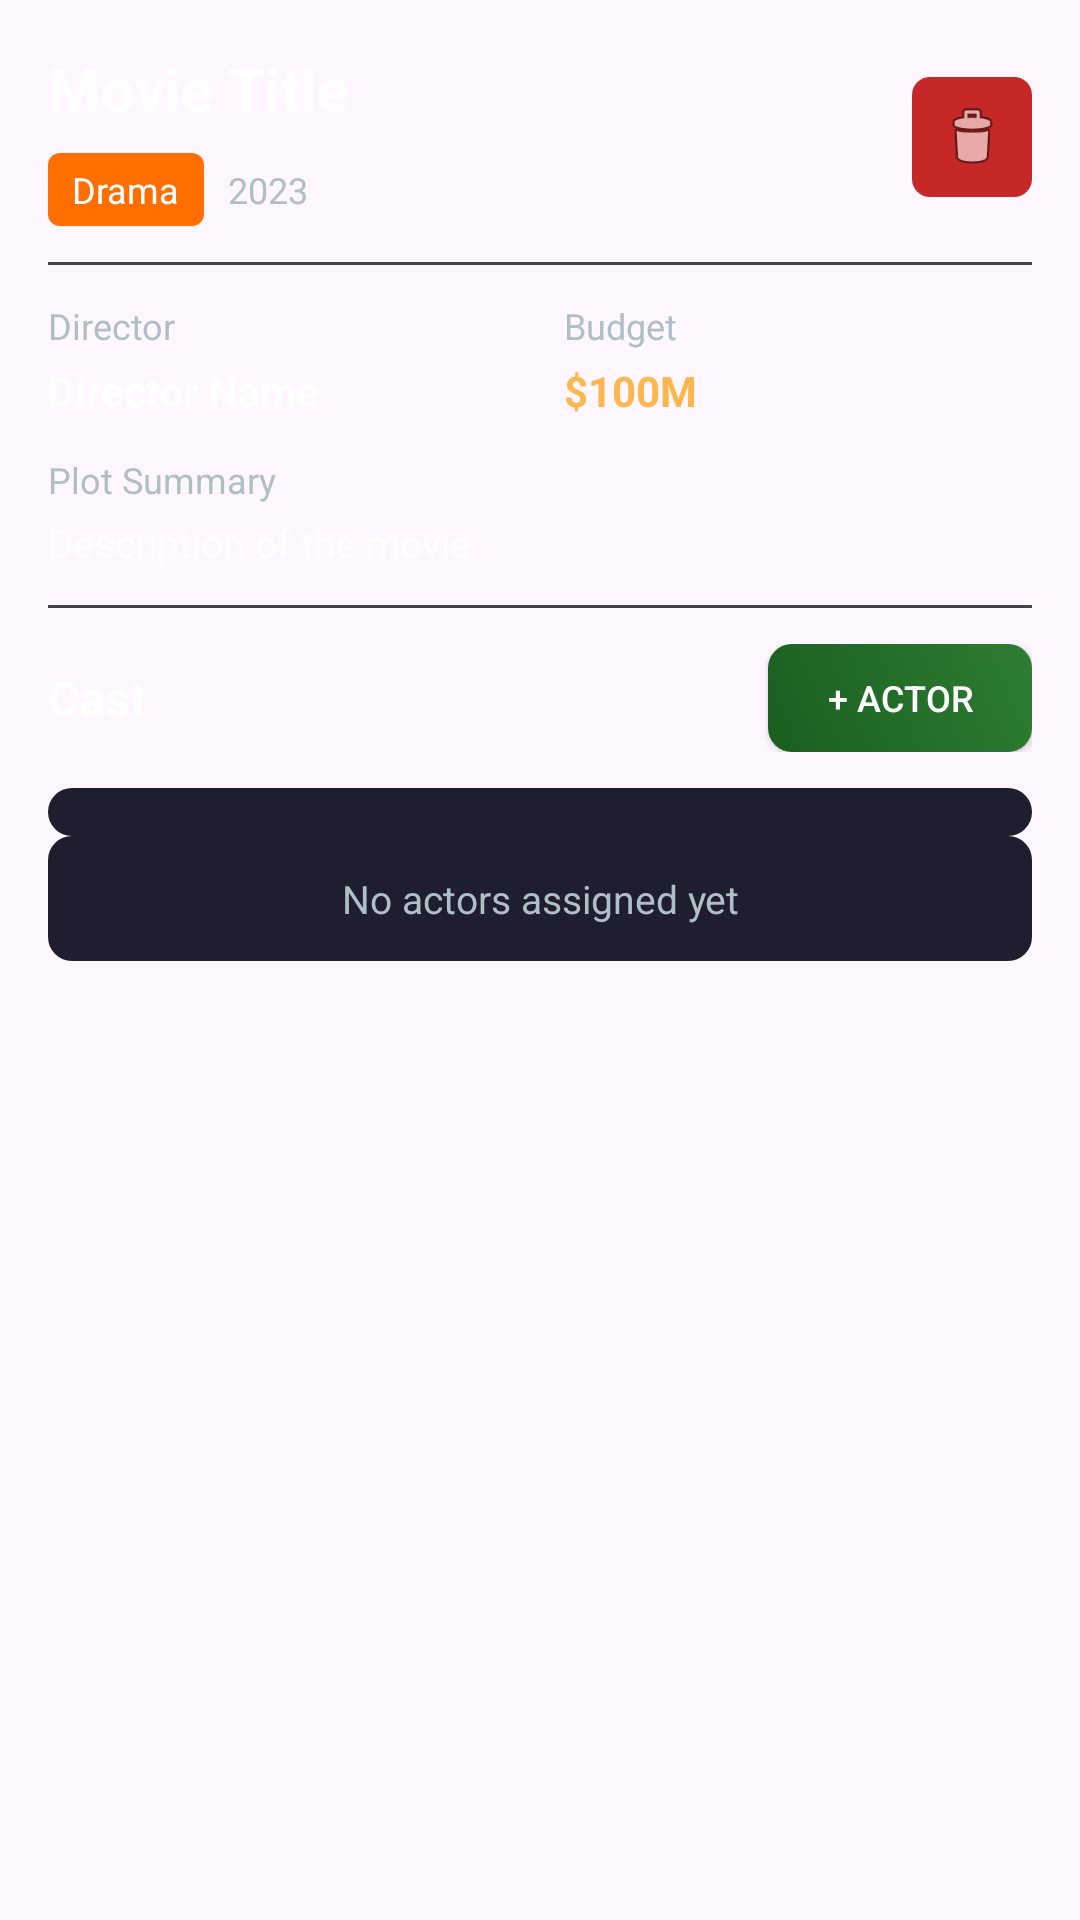

Screen size 1080w x 1920h. Icon name, then its box in pixels as bbox(x1, y1, x2, y2):
Delete Movie: bbox(912, 77, 1032, 197)
